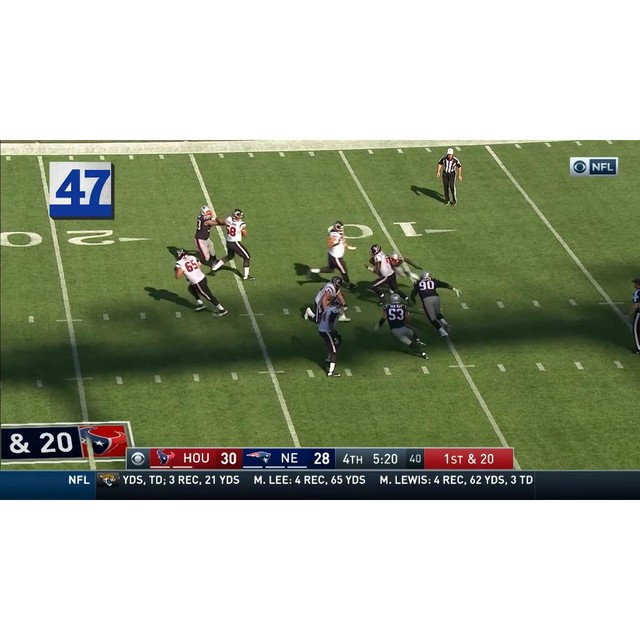american-football-player: (173, 248, 227, 315), (376, 292, 428, 359), (411, 270, 460, 338), (308, 298, 348, 378), (211, 209, 254, 281), (312, 223, 354, 284), (367, 245, 410, 304), (192, 207, 223, 268), (302, 276, 342, 323)
referee: (436, 147, 462, 207), (628, 276, 640, 355)
